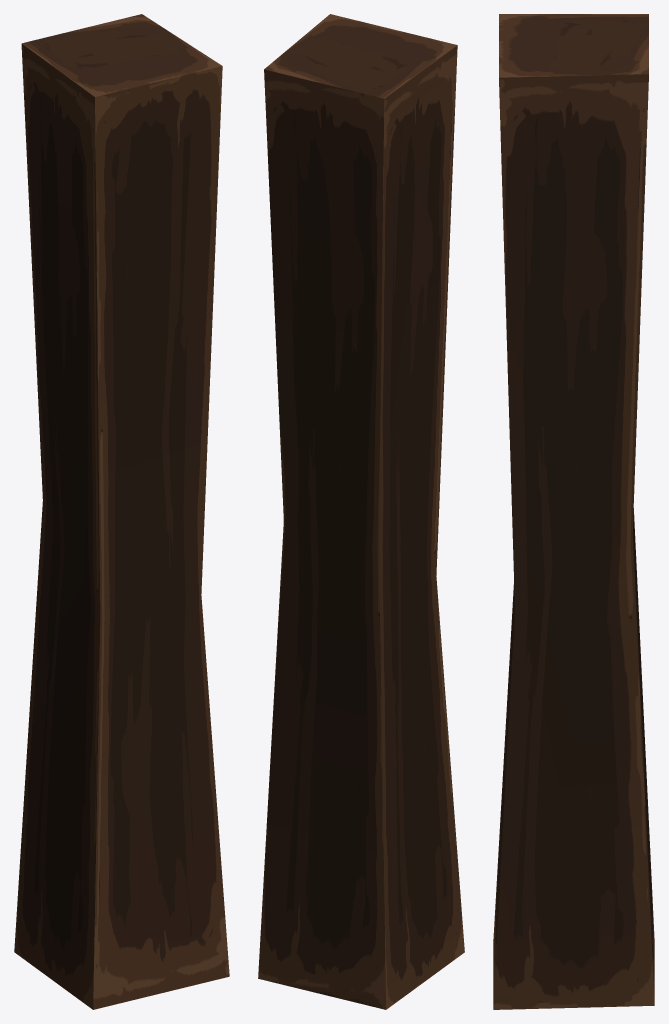
The model's file is MOD_Column_01_large_2.fbx.
The picture shows the model from 3 angles, left to right: view 1: azimuth 30°, elevation 25°; view 2: azimuth 150°, elevation 25°; view 3: azimuth 270°, elevation 25°; orthographic projection. The views are drawn at different scales.
Parts seen in each view (by area): view 1: MOD_Column_01_large_2; view 2: MOD_Column_01_large_2; view 3: MOD_Column_01_large_2.
Part boxes in pixels (x1,y1,x2,y2): MOD_Column_01_large_2: (14,14,229,1009); MOD_Column_01_large_2: (258,14,464,1009); MOD_Column_01_large_2: (493,14,654,1009).
Bounding box in the file's own units: 92.69 × 590 × 92.75.
